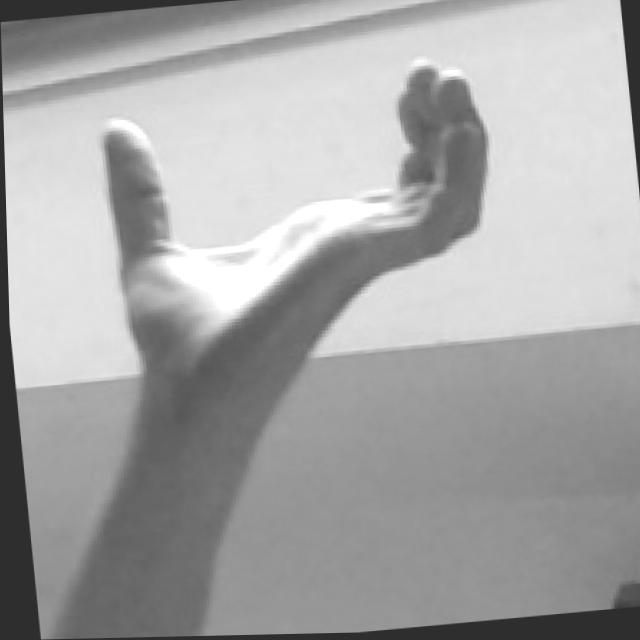space: (96, 51, 508, 372)
